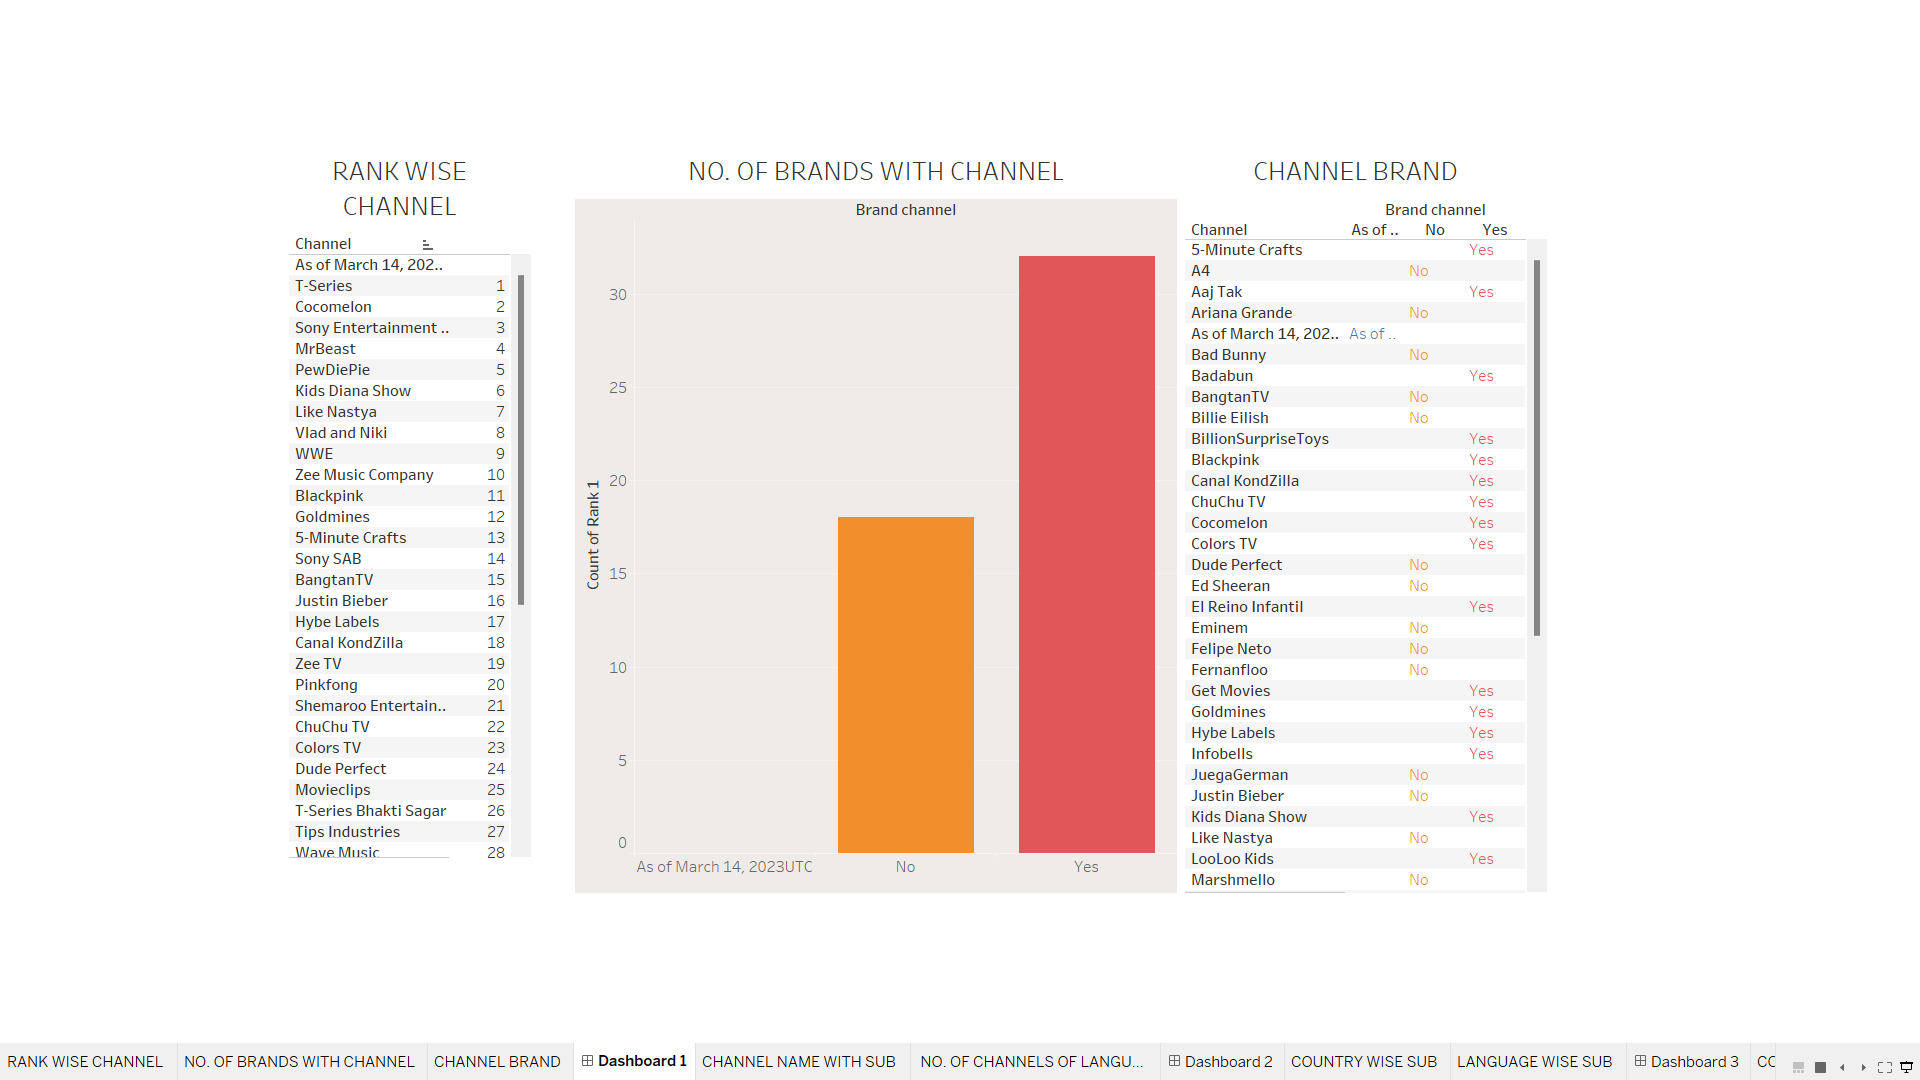

The page's visual inventory and layout, read from the dashboard file:
{"tool":"tableau","page":{"name":"Dashboard 1","canvas":[1366,768],"ordinal":0},"visuals":[{"type":"worksheet","title":"RANK WISE CHANNEL","mark":"Automatic","rows":["Name"],"box":[8,8,285.9,752]},{"type":"worksheet","title":"NO. OF BRANDS WITH CHANNEL","mark":"Automatic","rows":["Rank"],"cols":["Brand channel"],"box":[293.9,8,610.1,752]},{"type":"worksheet","title":"CHANNEL BRAND","mark":"Automatic","rows":["Name"],"cols":["Brand channel"],"box":[904,8,454,752]}]}

Visuals, with their boxes on the page's 1366x768 design canvas (x1, y1, x2, y2). These are canvas units, not pixel positions in the 1920x1080 screenshot, which may show the page scaled, cropped or inside an application window:
"RANK WISE CHANNEL" worksheet: bbox=(8, 8, 294, 760)
"NO. OF BRANDS WITH CHANNEL" worksheet: bbox=(294, 8, 904, 760)
"CHANNEL BRAND" worksheet: bbox=(904, 8, 1358, 760)
